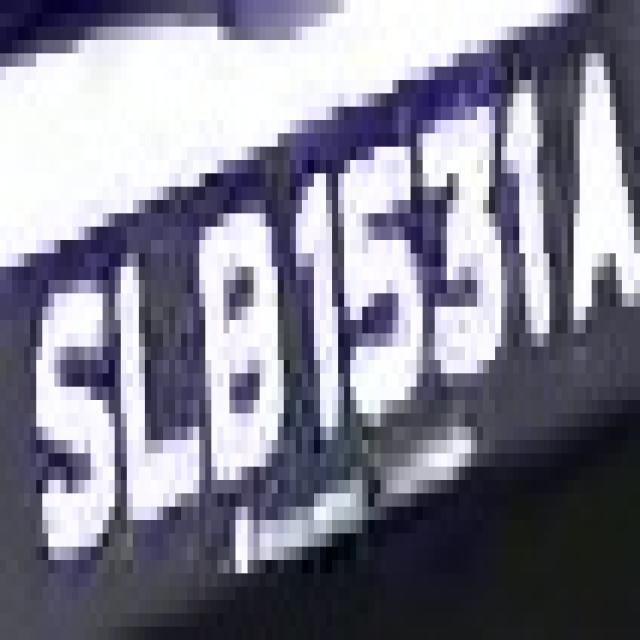1: (495, 40, 562, 387), (284, 133, 350, 467)
3: (399, 66, 507, 426)
5: (320, 146, 429, 466)
A: (549, 40, 640, 360)
B: (187, 187, 284, 520)
L: (103, 266, 230, 546)
S: (18, 227, 109, 613)
